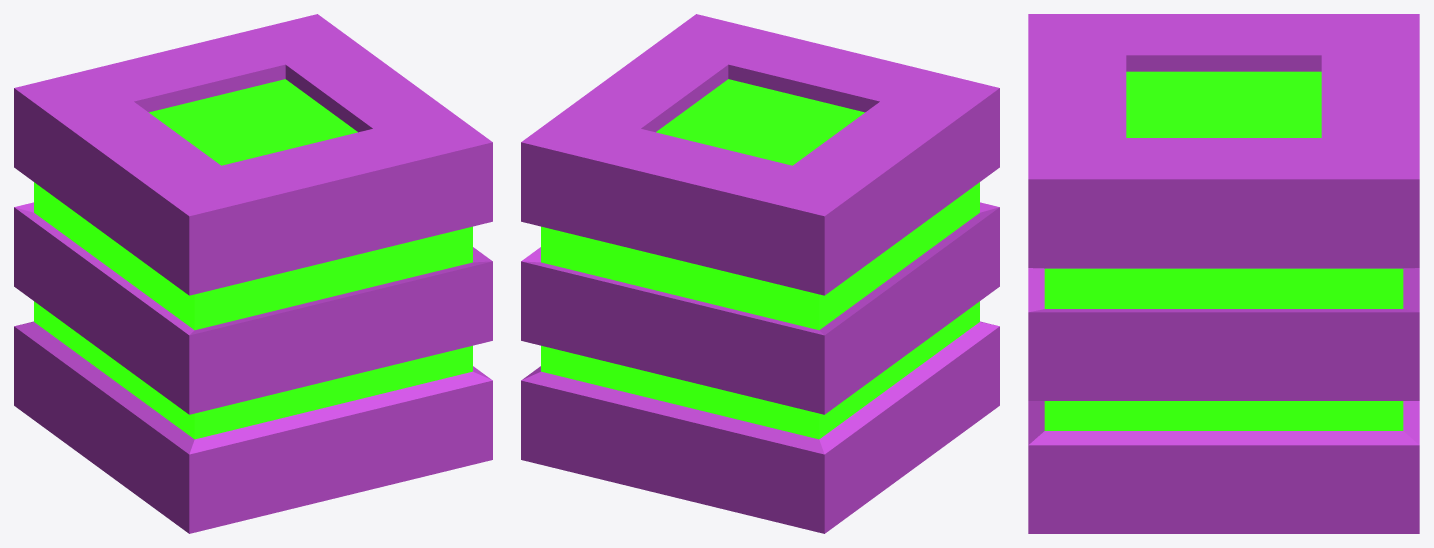
File: gate1x1.fbx
3 views of the same model, side by side, from view 1: azimuth 30°, elevation 25°; view 2: azimuth 150°, elevation 25°; view 3: azimuth 270°, elevation 25° (orthographic). The views are drawn at different scales.
Parts seen in each view (by area): view 1: Cube; view 2: Cube; view 3: Cube.
Boxes of the visible parts, box(x1,y1,x2,y2) form: Cube: box(14, 14, 492, 533); Cube: box(521, 14, 999, 533); Cube: box(1028, 14, 1419, 533).
Size of the model in its own units: 200 by 200 by 200.
